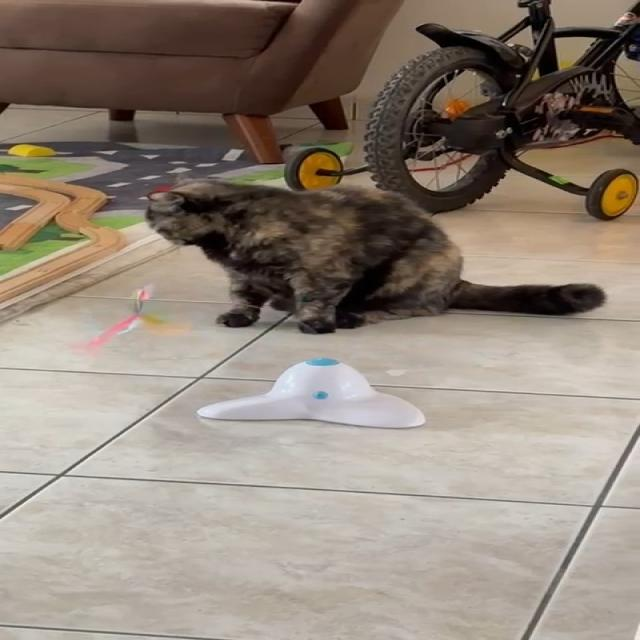authorized: (143, 177, 606, 334)
